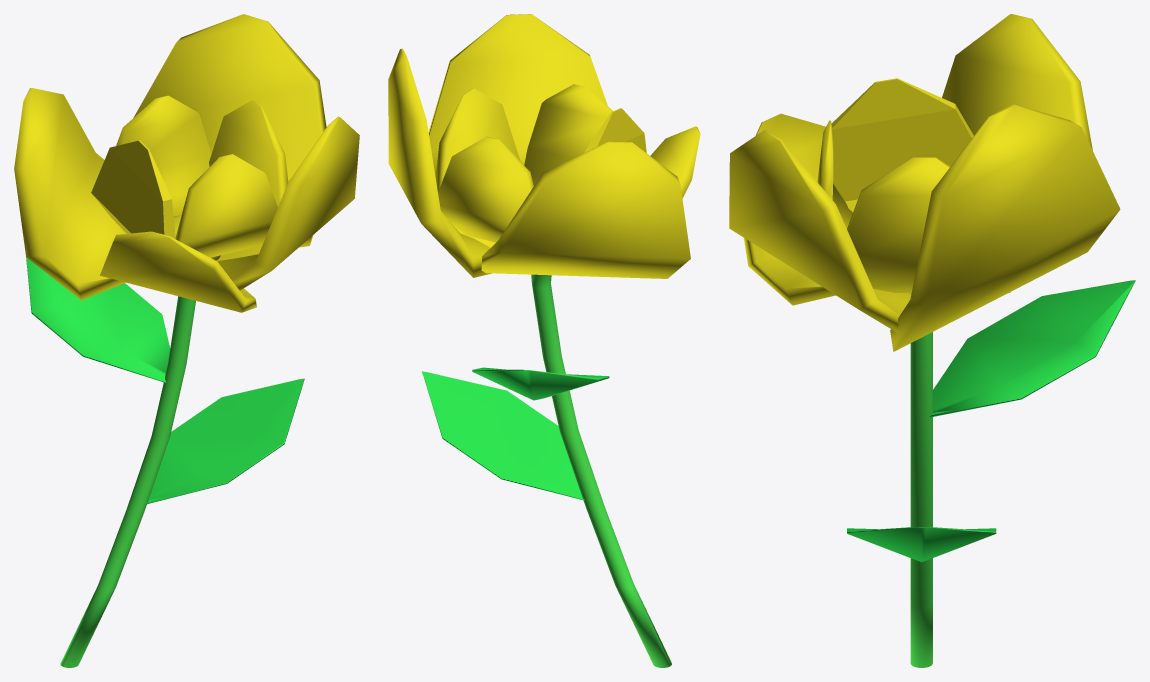
Rendered from flower_yellow.fbx.
3 renders of one model, left to right at view 1: azimuth 30°, elevation 25°; view 2: azimuth 150°, elevation 25°; view 3: azimuth 270°, elevation 25°, orthographic. The views are drawn at different scales.
Parts seen in each view (by area): view 1: Cube.001; view 2: Cube.001; view 3: Cube.001.
Boxes of the visible parts, x1,y1,x2,y2 form: Cube.001: [14, 14, 359, 667]; Cube.001: [388, 14, 700, 667]; Cube.001: [729, 14, 1135, 667].
Bounding box in the file's own units: 96.21 × 173 × 93.54.
